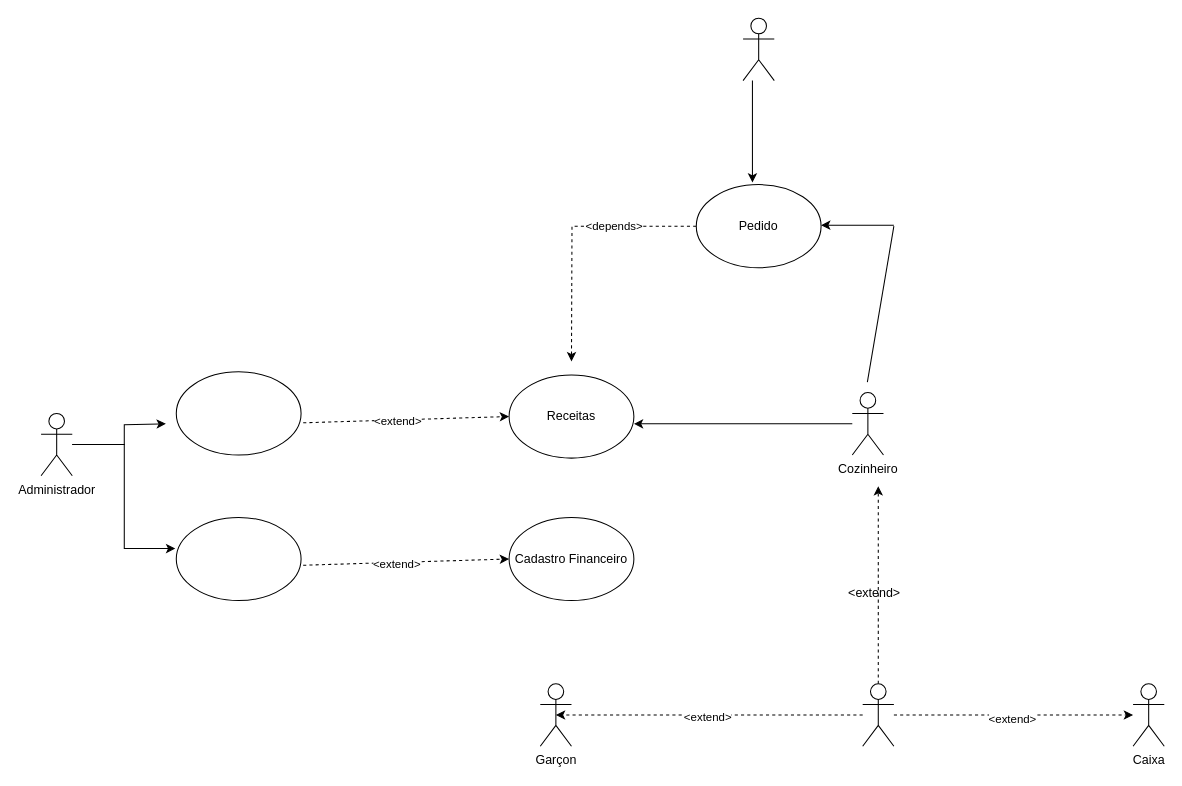
Some shapes in this 1182 by 786 pixel diagram are drawn without their labels. The box of each missing label's shape, as (x1, y1, x2, y2) in pixels:
Cadastro Insumos: (175, 371, 301, 455)
Cliente: (742, 17, 774, 81)
Conferir Finanças: (175, 516, 301, 601)
Funcionario: (862, 683, 894, 746)
